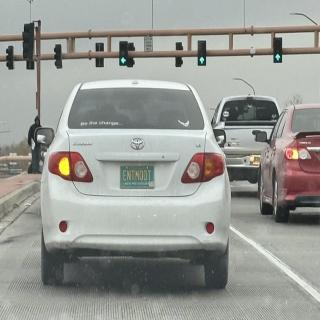license: (121, 167, 155, 190)
